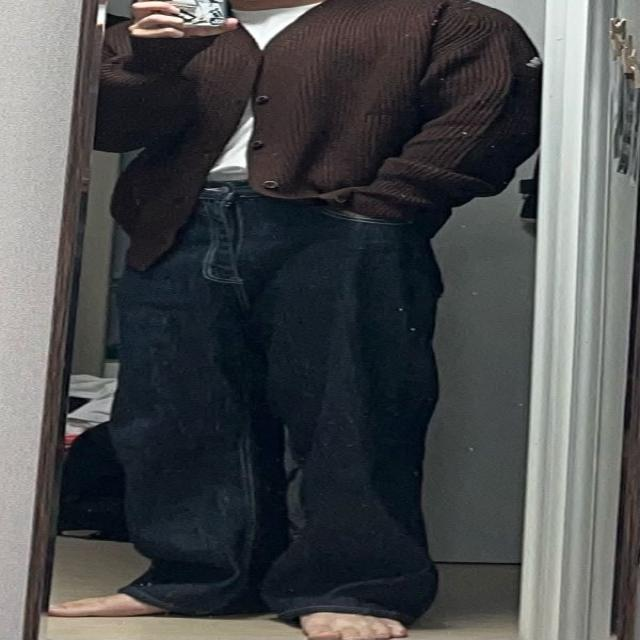cardigan: (90, 1, 522, 272)
denimpants: (111, 180, 435, 624)
